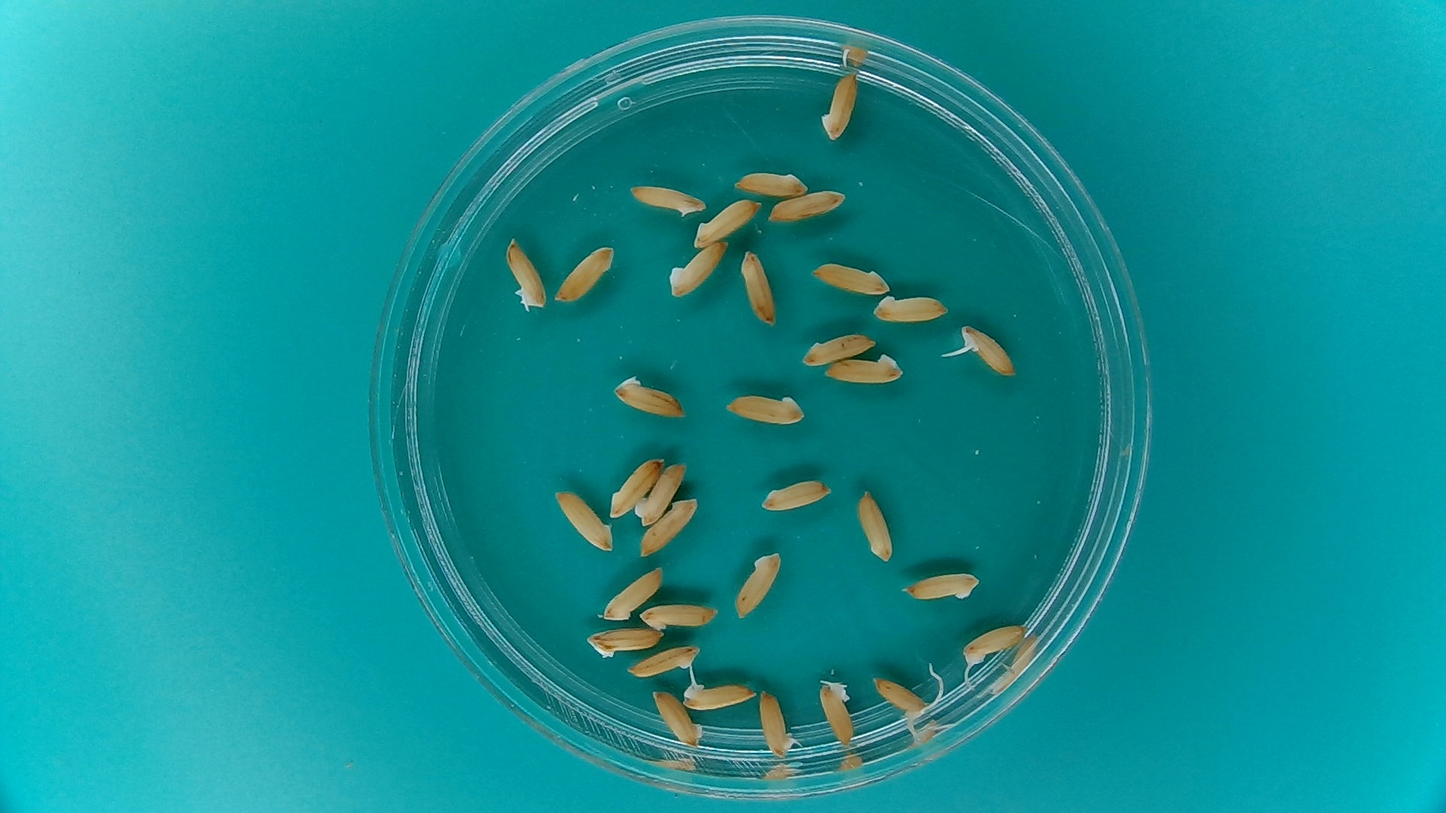no: (637, 495, 702, 559), (552, 487, 615, 553), (635, 455, 691, 527), (666, 238, 731, 300), (551, 243, 618, 303), (611, 373, 690, 422), (599, 564, 664, 623), (607, 452, 663, 520), (732, 547, 784, 620), (692, 196, 762, 250), (504, 233, 549, 312), (722, 389, 808, 428), (651, 687, 706, 747), (739, 246, 779, 327), (817, 68, 859, 144), (855, 486, 896, 563), (626, 180, 707, 218), (766, 187, 849, 224), (584, 623, 669, 659), (810, 261, 892, 297), (625, 643, 703, 680), (819, 352, 906, 385), (798, 330, 877, 366), (901, 568, 982, 603), (871, 291, 952, 325), (817, 678, 856, 748), (637, 601, 723, 632), (758, 477, 834, 512), (732, 167, 810, 195)
yes: (757, 687, 807, 761), (961, 621, 1030, 671), (958, 322, 1017, 378), (871, 680, 942, 723), (679, 673, 759, 711)
